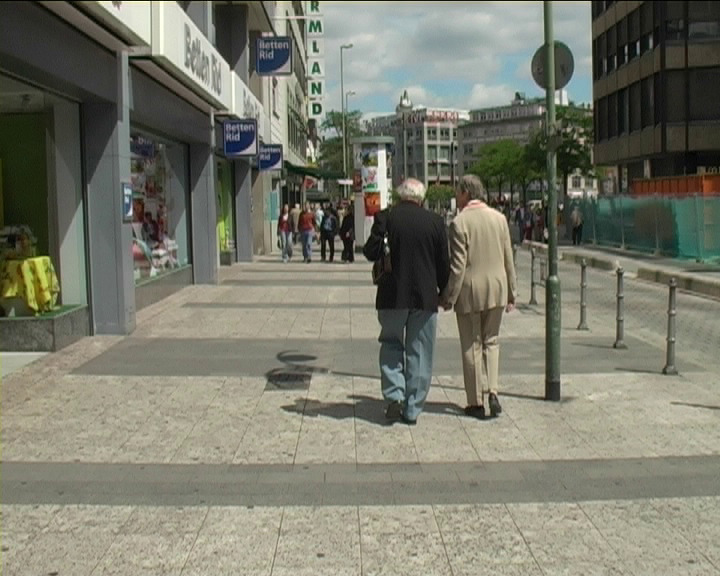deflection: (449, 171, 512, 257)
